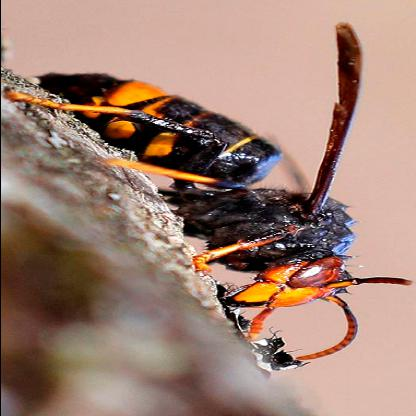asian: (27, 23, 393, 372)
